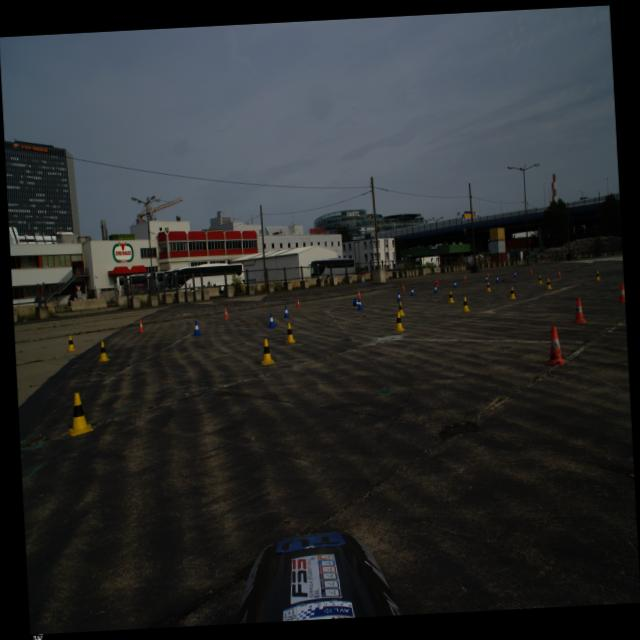blue_cone: (192, 321, 202, 336), (266, 313, 276, 328), (283, 306, 290, 318), (356, 298, 363, 310), (396, 292, 402, 302), (352, 298, 358, 306), (410, 287, 415, 296), (433, 285, 438, 293), (453, 280, 458, 288), (496, 275, 500, 283), (485, 275, 489, 282), (514, 270, 517, 278)
orange_cone: (543, 325, 567, 366), (571, 298, 588, 324), (616, 283, 626, 303), (138, 319, 145, 333), (223, 308, 229, 320), (296, 298, 300, 308), (357, 290, 361, 299), (402, 283, 406, 292), (557, 269, 561, 278), (434, 280, 438, 286), (529, 268, 533, 274), (487, 271, 490, 277), (464, 274, 466, 281)
yellow_cone: (66, 392, 94, 436), (259, 338, 275, 366), (96, 340, 110, 362), (284, 322, 296, 344), (392, 312, 405, 332), (460, 296, 471, 312), (66, 335, 76, 351), (508, 286, 517, 300), (398, 301, 406, 316), (448, 290, 454, 302), (546, 278, 552, 290), (486, 282, 492, 292), (594, 271, 600, 281), (537, 275, 543, 284)
